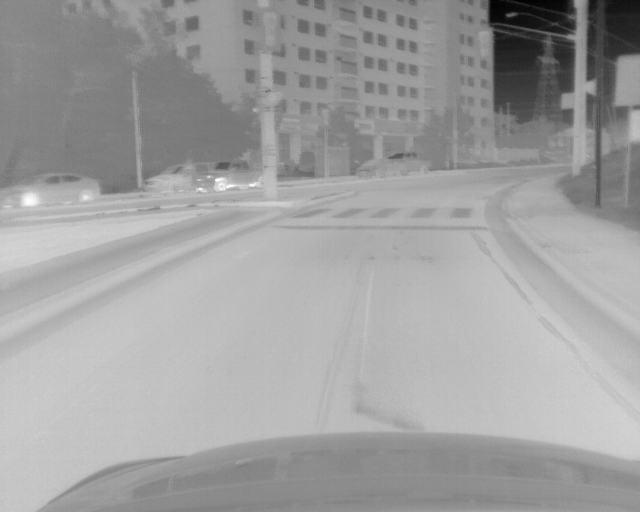car: (1, 171, 101, 212), (198, 158, 266, 196), (142, 161, 195, 193), (386, 150, 432, 172), (355, 156, 385, 178)
